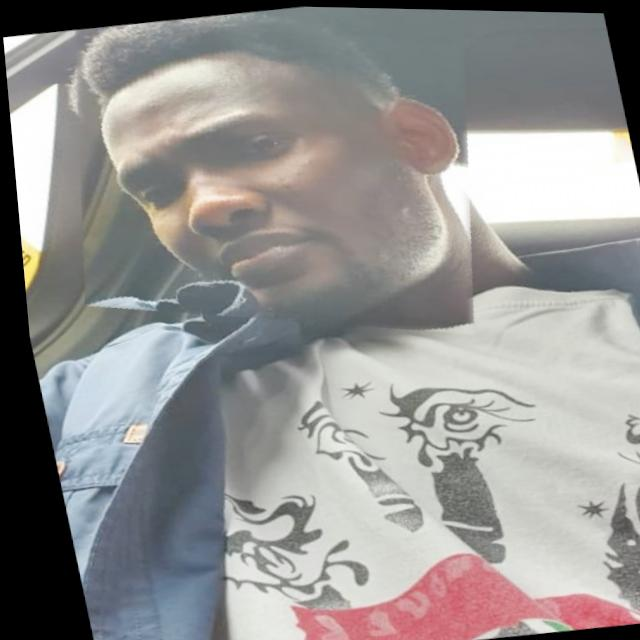sad: (36, 1, 507, 361)
